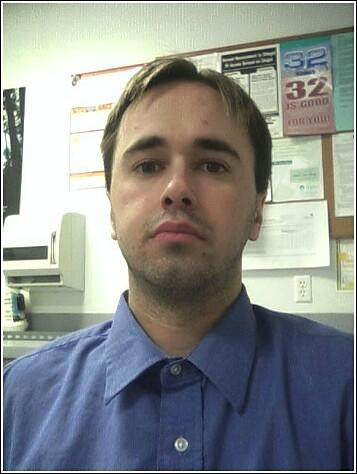person: (1, 57, 357, 474)
